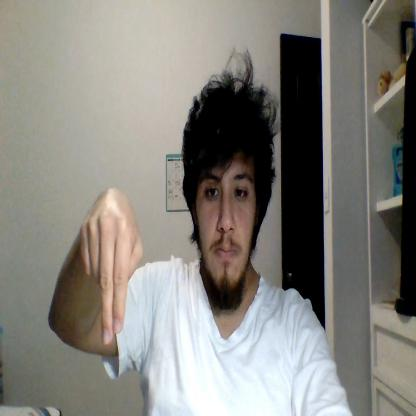N: (81, 188, 142, 345)
